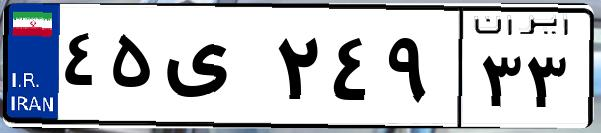2: (270, 28, 330, 110)
3: (475, 38, 525, 113), (525, 38, 570, 115)
4: (330, 28, 385, 110), (57, 26, 110, 100)
5: (110, 28, 158, 98)
9: (385, 28, 445, 110)
ی: (158, 20, 270, 120)
